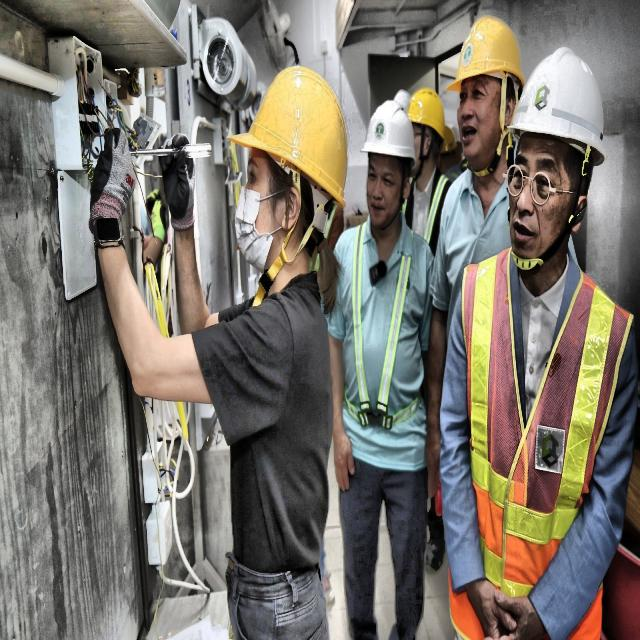safety_helmet: (227, 63, 351, 213), (513, 38, 604, 178), (450, 11, 518, 97), (355, 92, 416, 175), (407, 74, 448, 141)
safety_jacket: (451, 244, 637, 638)
